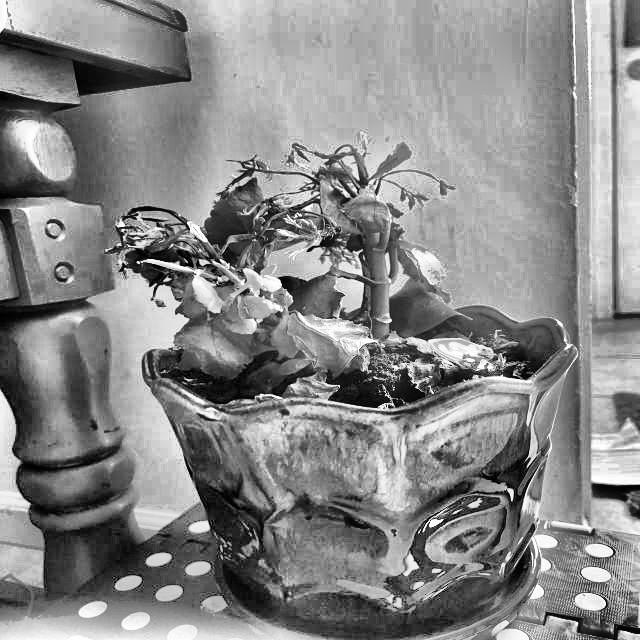plants: (94, 163, 546, 417)
